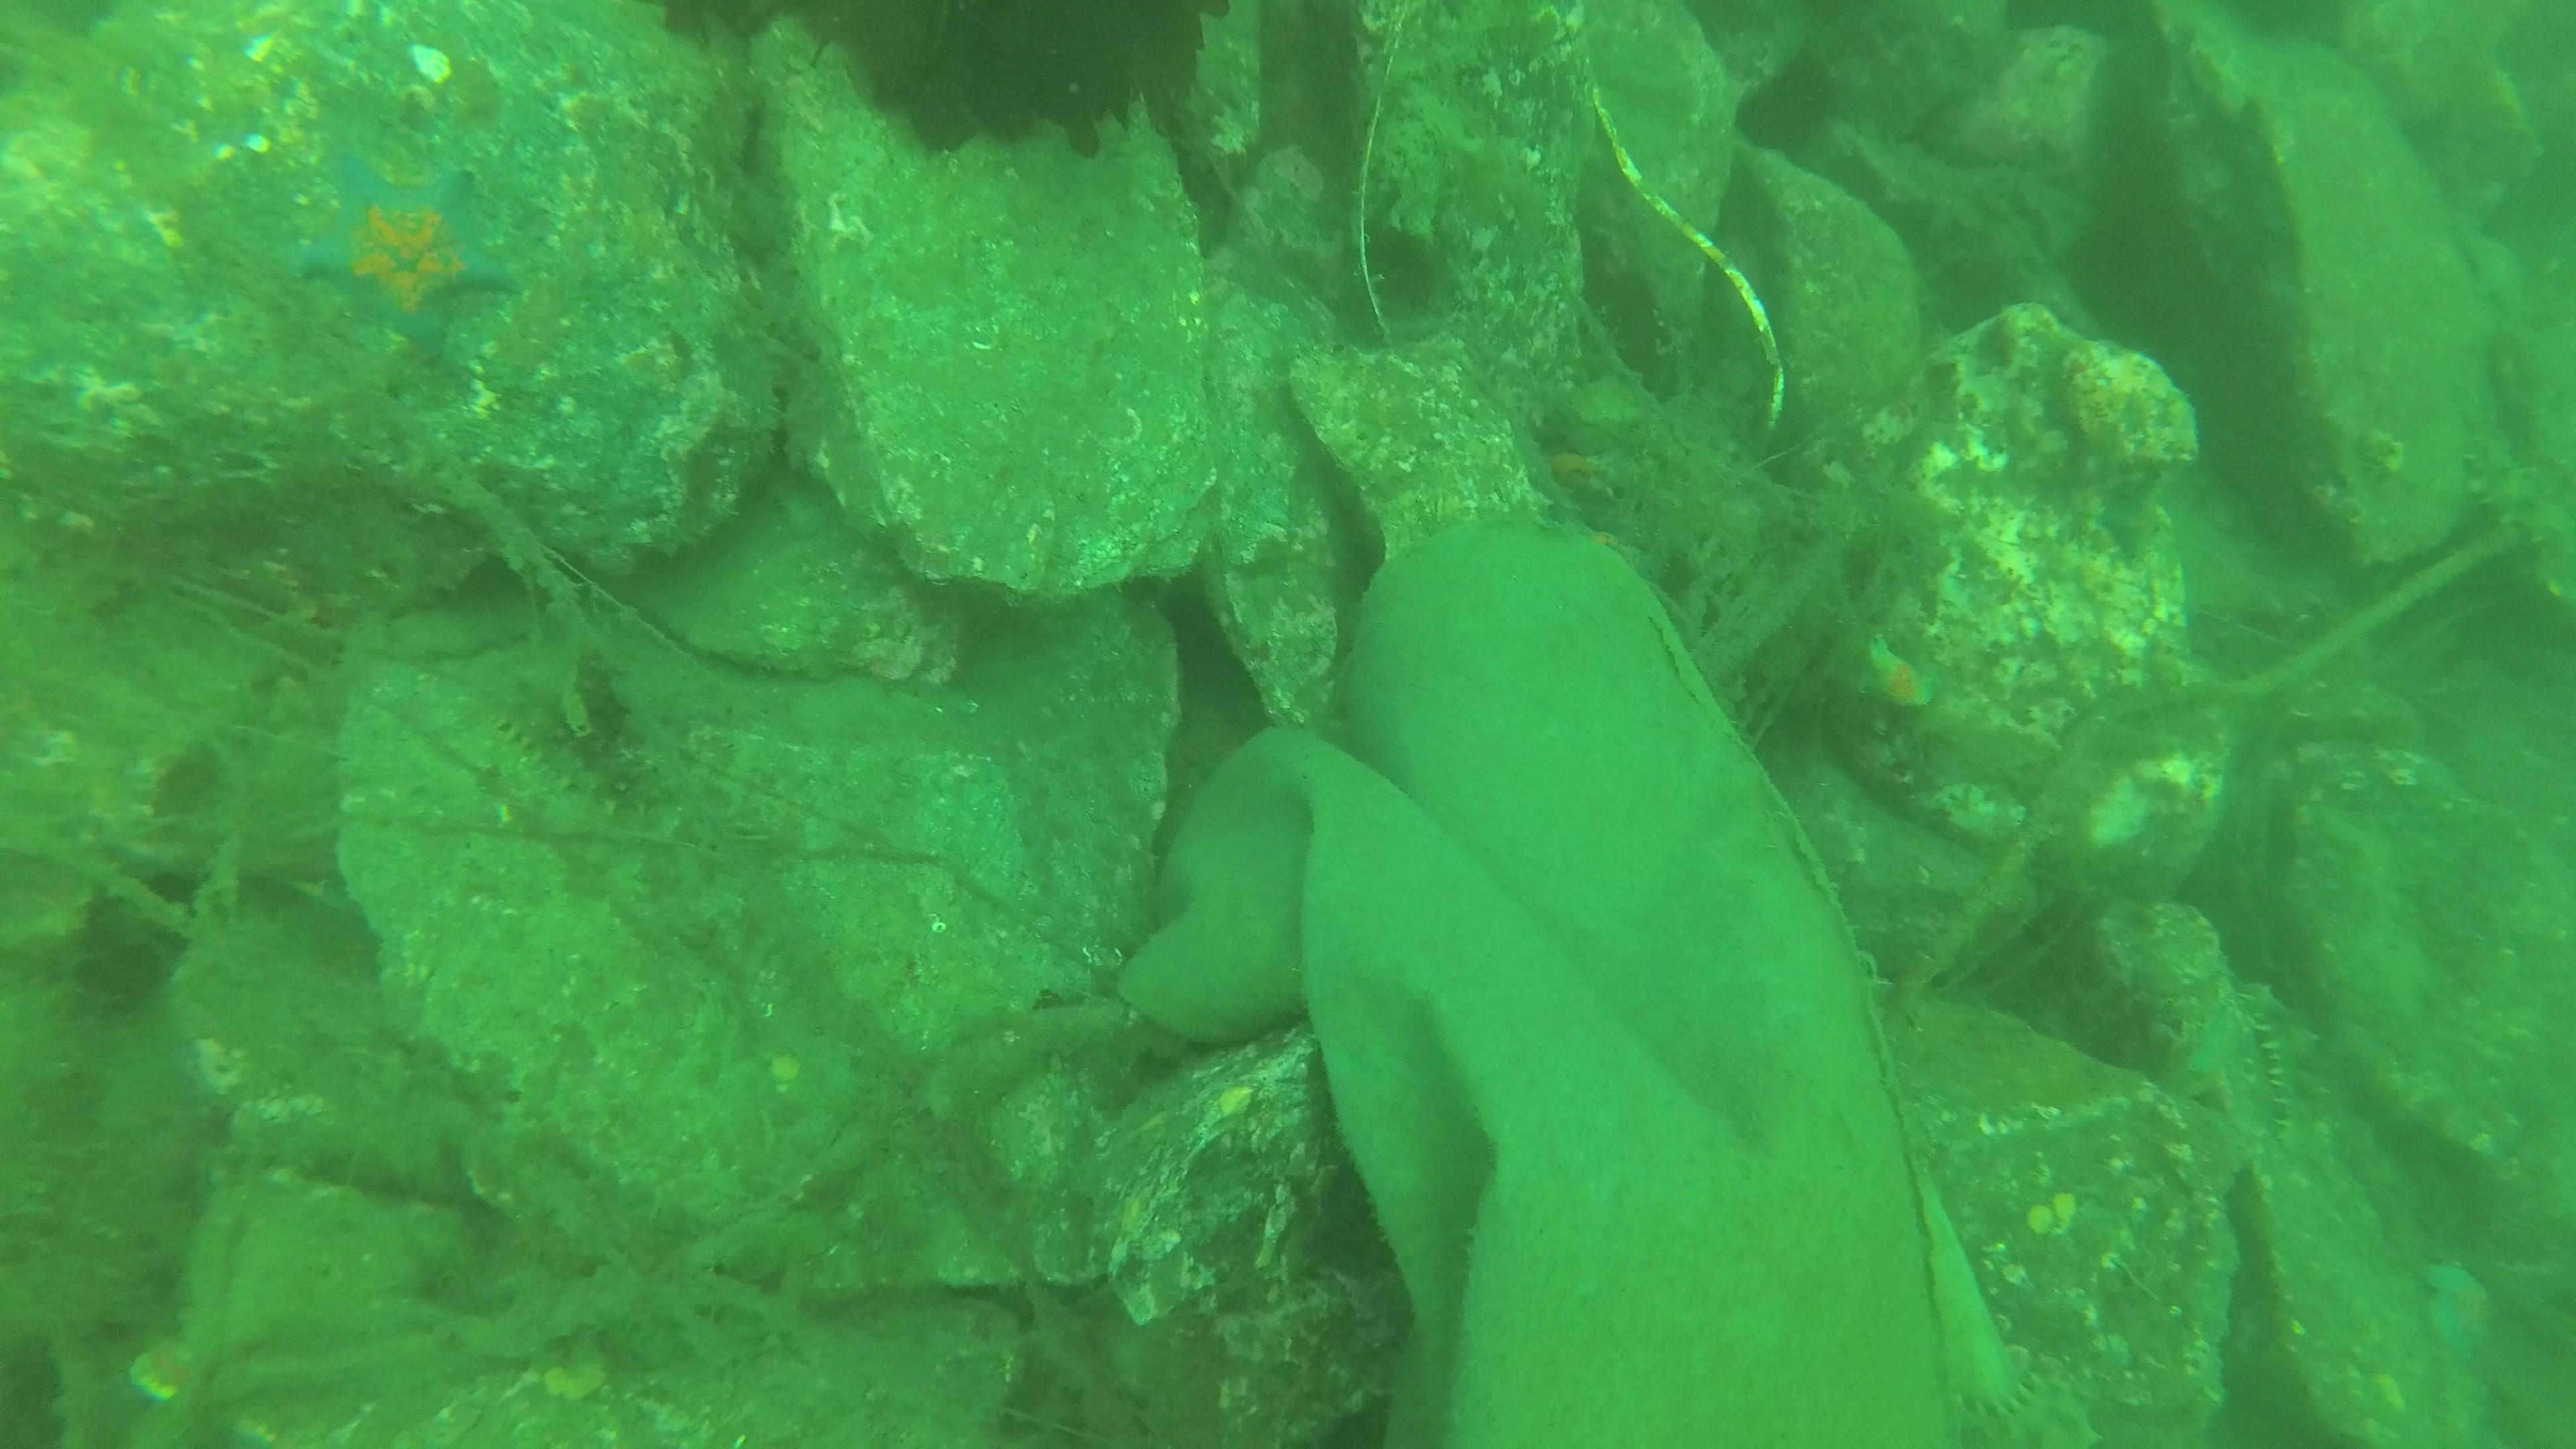holothurian: (2457, 409, 2576, 563), (2240, 975, 2323, 1150), (1937, 1376, 2104, 1449)
starfish: (278, 147, 517, 363), (1849, 633, 1946, 718), (2411, 1249, 2489, 1352)
